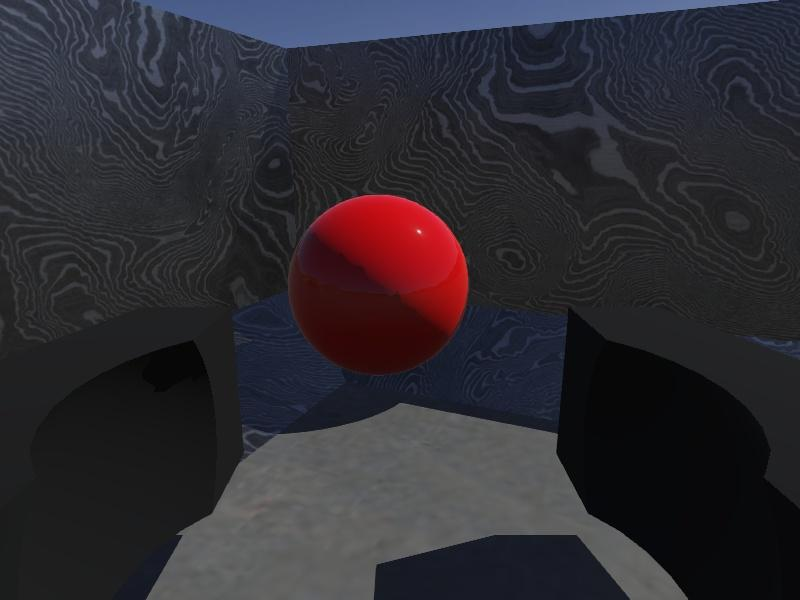red ball: (286, 193, 469, 378)
